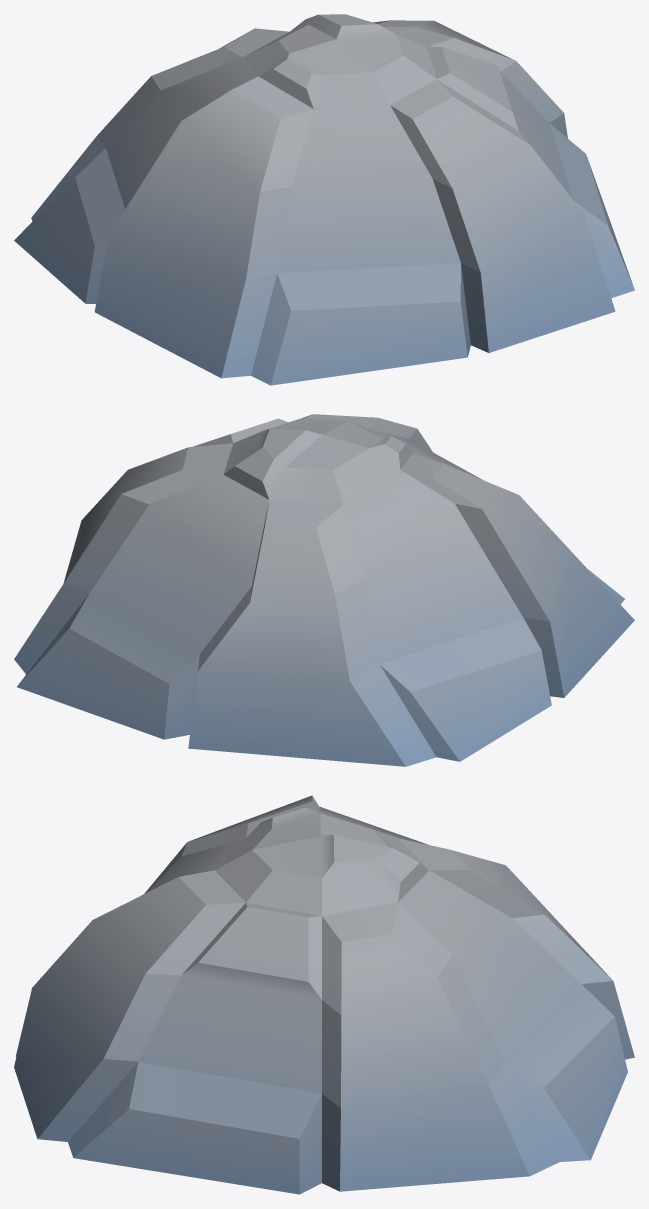
File: SM_Prop_snowPile_01.fbx
The picture shows the model from 3 angles, top to bottom: view 1: azimuth 30°, elevation 25°; view 2: azimuth 150°, elevation 25°; view 3: azimuth 270°, elevation 25°; orthographic projection. The views are drawn at different scales.
Parts seen in each view (by area): view 1: SM_Prop_snowPile_01; view 2: SM_Prop_snowPile_01; view 3: SM_Prop_snowPile_01.
Part boxes in pixels (<box>): SM_Prop_snowPile_01: <box>14,14,634,385</box>; SM_Prop_snowPile_01: <box>14,414,634,766</box>; SM_Prop_snowPile_01: <box>14,795,634,1194</box>.
Size of what is drawn, in the model's own units: 194 by 80.99 by 195.
